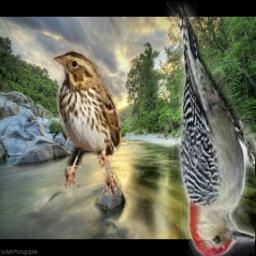Sparrow: (51, 47, 122, 196)
Woodpecker: (166, 1, 255, 256)
